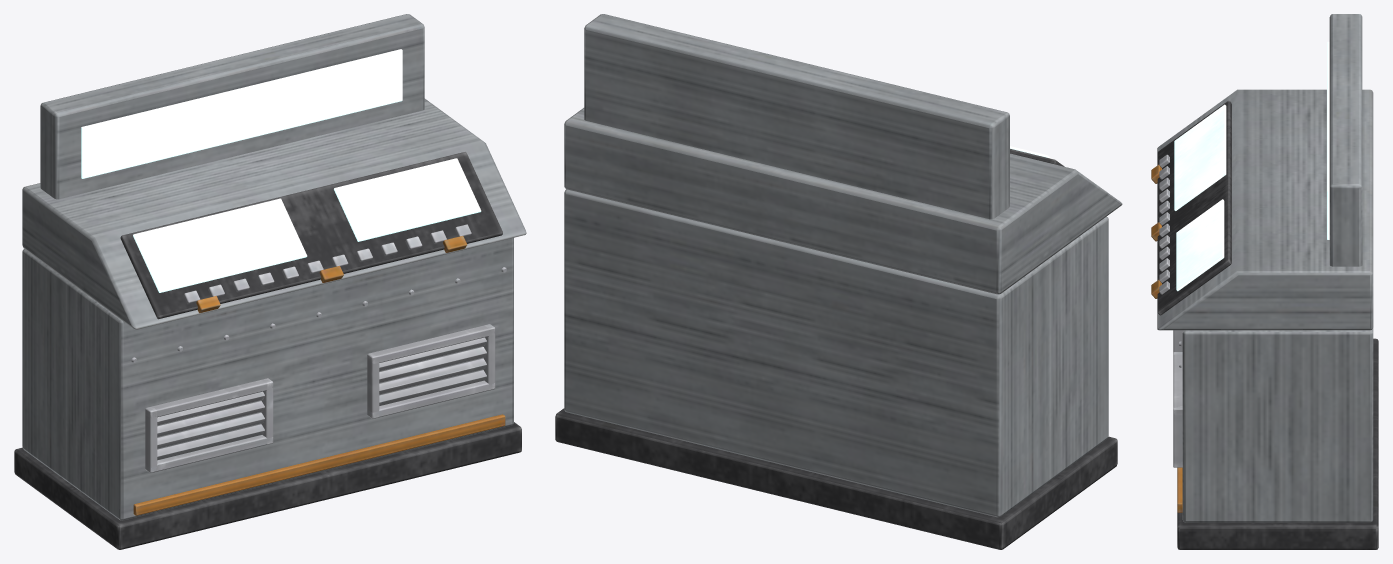
File: Console_Desk.fbx
3 views of the same model, side by side, from view 1: azimuth 30°, elevation 25°; view 2: azimuth 150°, elevation 25°; view 3: azimuth 270°, elevation 25° (orthographic). The views are drawn at different scales.
Parts seen in each view (by area): view 1: Console_Desk; view 2: Console_Desk; view 3: Console_Desk.
Boxes of the visible parts, left/top/right/bottom form: Console_Desk: left=14, top=14, right=526, bottom=549; Console_Desk: left=555, top=14, right=1122, bottom=549; Console_Desk: left=1151, top=14, right=1378, bottom=549.
Bounding box in the file's own units: 1.64 × 1.45 × 0.8358.
Materials: 1 (1 with a texture image).
